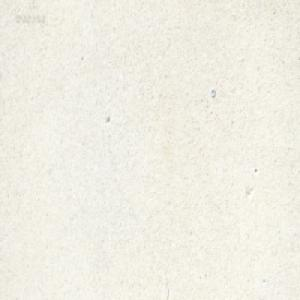Washer: (210, 87, 216, 98)
